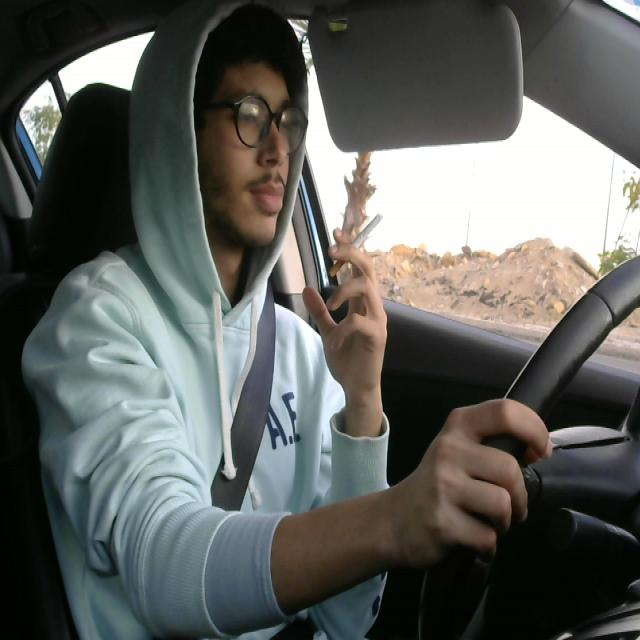smoking: (327, 210, 385, 280)
